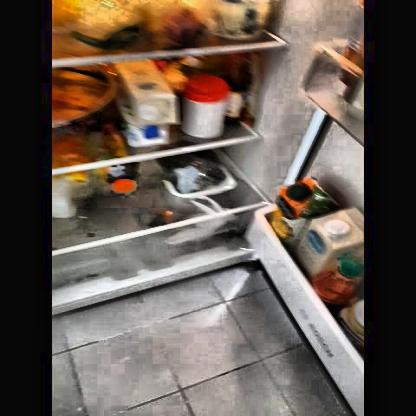broccoli: (163, 155, 231, 199)
green_chillies: (83, 16, 155, 52)
milk: (108, 58, 180, 146), (309, 207, 359, 277)
tomato: (159, 9, 207, 42)
yoghurt: (209, 0, 276, 42)
